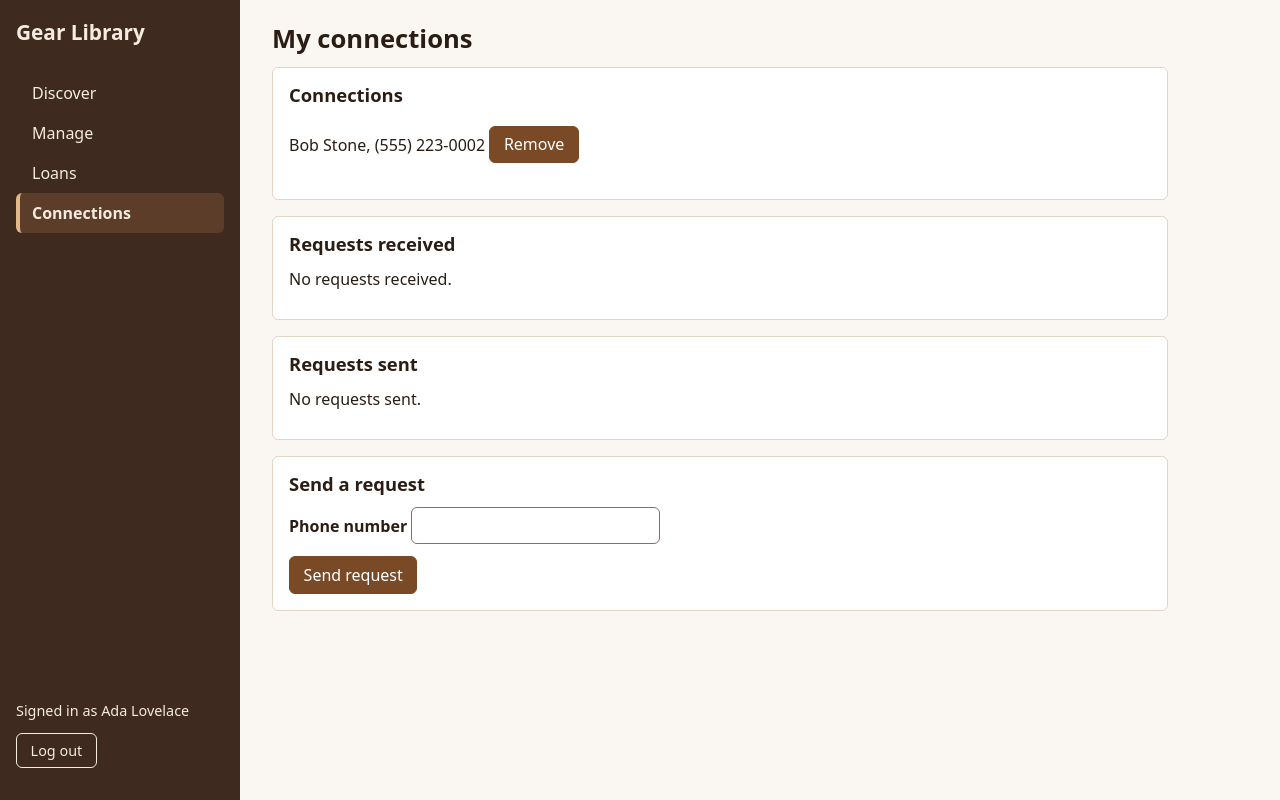
it: removing a connection › shows why a connection could not be removed and reloads
expect the heading "My connections" is shown: met, box [272, 21, 473, 56]
Click the button with aria-label "Remove Bob Stone": (534, 144) [489, 126, 579, 163]
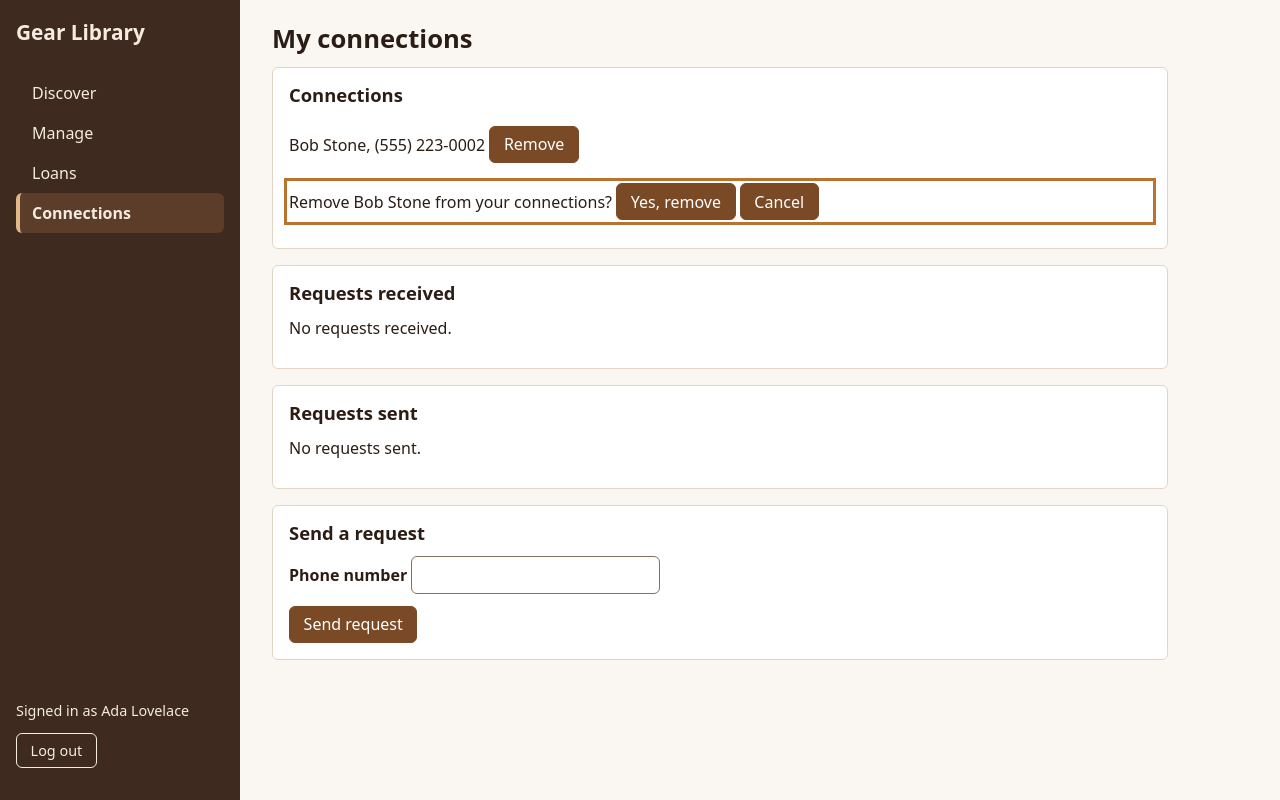
Click the button "Yes, remove": (676, 202) [616, 183, 736, 220]
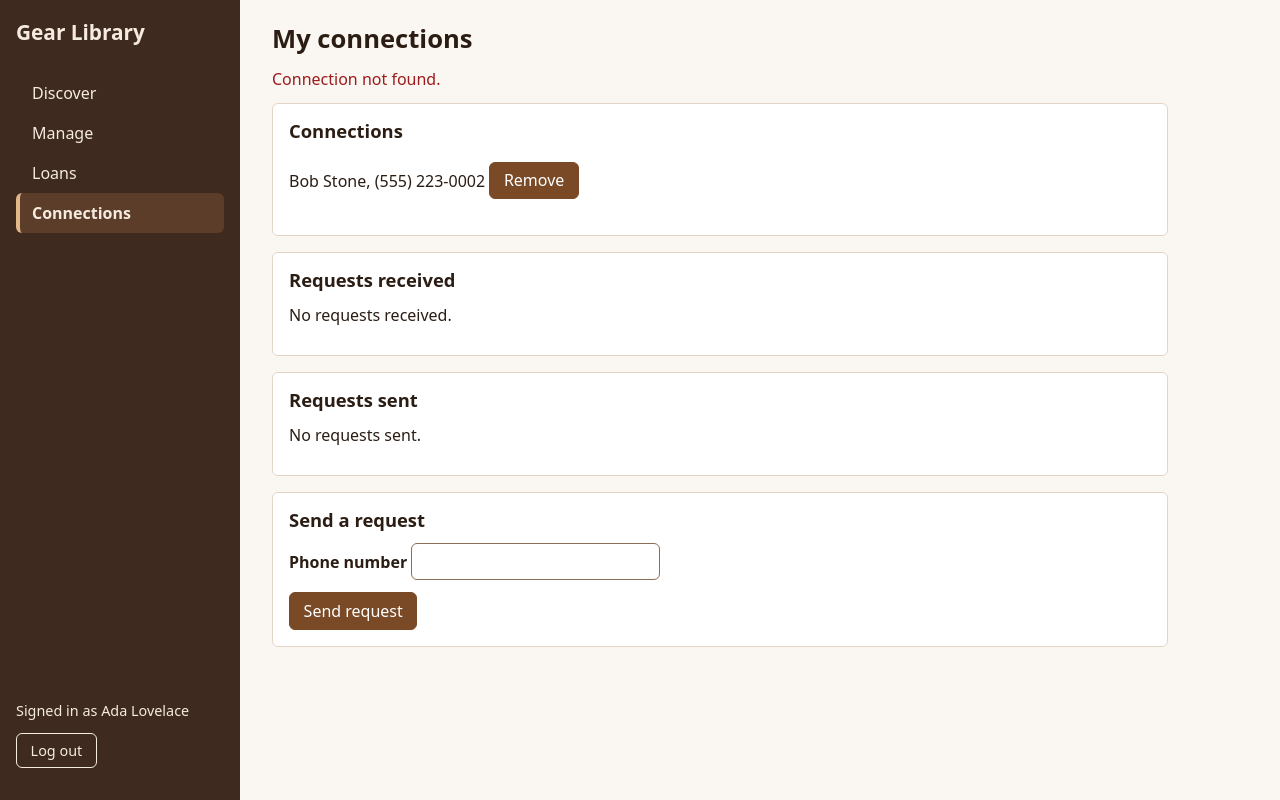
expect the message reads "Connection not found.": met, box [272, 68, 440, 90]
